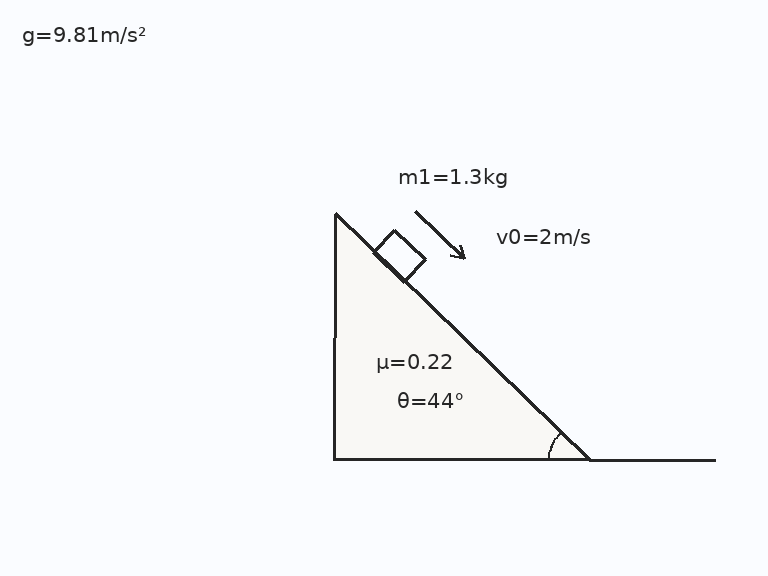block: (372, 228, 427, 283)
ramp: (332, 212, 591, 462)
